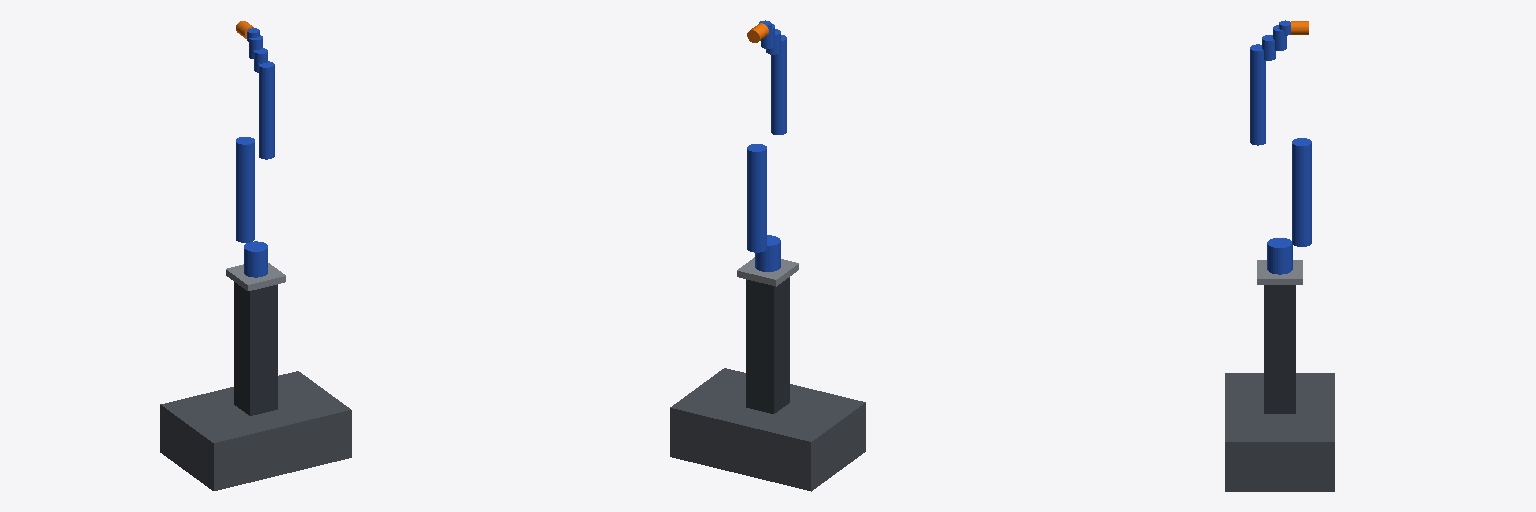
URDF robot description (mobile_manipulator):
<?xml version="1.0" ?>
<!-- =================================================================================== -->
<!-- |    This document was autogenerated by xacro from src/description/mobile_manipulator_description/urdf/mobile_manipulator.urdf.xacro | -->
<!-- |    EDITING THIS FILE BY HAND IS NOT RECOMMENDED                                 | -->
<!-- =================================================================================== -->
<!-- Mobile manipulator: base + lift + 6-DOF arm + tool = 7 actuated DOF (lift + six arm joints).

     Every part is swappable behind a small contract (see each file's header):
       base  urdf/base/generic_base.xacro
       lift  urdf/lift/telescopic_lift.xacro
       arm   urdf/arms/arm.xacro  (generic_6dof | ur3 | ur5 | ur10 | ur10e | ur16e | ur20 | ...)
       tool  urdf/tools/generic_tool.xacro

     Render:  xacro mobile_manipulator.urdf.xacro arm:=ur10e lift_stroke:=1.5 tcp_xyz:="0 0 0.165"

     Frames:  base_footprint > base_link > lift_mount_link > lift_base_link > (lift_joint) >
              lift_carriage_link > lift_output_link > arm_base_link > ... > arm_flange_link >
              tool_mount_link > tcp_link -->
<robot name="mobile_manipulator">
  <link name="base_footprint"/>
  <link name="base_link">
    <visual>
      <origin rpy="0 0 0" xyz="0 0 0"/>
      <geometry>
        <box size="0.9 0.6 0.3"/>
      </geometry>
      <material name="base_grey">
        <color rgba="0.35 0.37 0.4 1"/>
      </material>
    </visual>
    <collision>
      <origin rpy="0 0 0" xyz="0 0 0"/>
      <geometry>
        <box size="0.9 0.6 0.3"/>
      </geometry>
    </collision>
    <inertial>
      <mass value="60.0"/>
      <inertia ixx="2.2499999999999996" ixy="0" ixz="0" iyy="4.5" iyz="0" izz="5.849999999999999"/>
    </inertial>
  </link>
  <joint name="base_footprint_joint" type="fixed">
    <parent link="base_footprint"/>
    <child link="base_link"/>
    <origin rpy="0 0 0" xyz="0 0 0.2"/>
  </joint>
  <!-- Where the lift column attaches: top face of the base, at the origin by default. -->
  <link name="lift_mount_link"/>
  <joint name="lift_mount_joint" type="fixed">
    <parent link="base_link"/>
    <child link="lift_mount_link"/>
    <origin rpy="0 0 0" xyz="0 0 0.15"/>
  </joint>
  <!-- Fixed outer column. -->
  <link name="lift_base_link">
    <visual>
      <origin rpy="0 0 0" xyz="0 0 0.4"/>
      <geometry>
        <box size="0.18 0.18 0.8"/>
      </geometry>
      <material name="lift_dark">
        <color rgba="0.25 0.27 0.3 1"/>
      </material>
    </visual>
    <collision>
      <origin rpy="0 0 0" xyz="0 0 0.4"/>
      <geometry>
        <box size="0.18 0.18 0.8"/>
      </geometry>
    </collision>
    <inertial>
      <mass value="10.0"/>
      <inertia ixx="0.5" ixy="0" ixz="0" iyy="0.5" iyz="0" izz="0.1"/>
    </inertial>
  </link>
  <joint name="lift_base_joint" type="fixed">
    <parent link="lift_mount_link"/>
    <child link="lift_base_link"/>
    <origin rpy="0 0 0" xyz="0 0 0"/>
  </joint>
  <!-- Moving carriage: driven by the single master joint over the full stroke. It sits at the
         top of the fixed column when the lift is retracted. -->
  <link name="lift_carriage_link">
    <visual>
      <origin rpy="0 0 0" xyz="0 0 0.02"/>
      <geometry>
        <box size="0.252 0.252 0.04"/>
      </geometry>
      <material name="lift_plate">
        <color rgba="0.55 0.57 0.6 1"/>
      </material>
    </visual>
    <collision>
      <origin rpy="0 0 0" xyz="0 0 0.02"/>
      <geometry>
        <box size="0.252 0.252 0.04"/>
      </geometry>
    </collision>
    <inertial>
      <mass value="3.0"/>
      <inertia ixx="0.05" ixy="0" ixz="0" iyy="0.05" iyz="0" izz="0.05"/>
    </inertial>
  </link>
  <joint name="lift_joint" type="prismatic">
    <parent link="lift_base_link"/>
    <child link="lift_carriage_link"/>
    <origin rpy="0 0 0" xyz="0 0 0.8"/>
    <axis xyz="0 0 1"/>
    <limit effort="2000.0" lower="0" upper="1.5" velocity="0.2"/>
  </joint>
  <link name="lift_stage_1_link">
    <visual>
      <origin rpy="0 0 0" xyz="0 0 0.4"/>
      <geometry>
        <cylinder length="0.8" radius="0.072"/>
      </geometry>
      <material name="lift_silver">
        <color rgba="0.7 0.72 0.75 1"/>
      </material>
    </visual>
    <collision>
      <origin rpy="0 0 0" xyz="0 0 0.4"/>
      <geometry>
        <cylinder length="0.8" radius="0.072"/>
      </geometry>
    </collision>
    <inertial>
      <mass value="2.0"/>
      <inertia ixx="0.1" ixy="0" ixz="0" iyy="0.1" iyz="0" izz="0.01"/>
    </inertial>
  </link>
  <joint name="lift_stage_1_joint" type="prismatic">
    <parent link="lift_base_link"/>
    <child link="lift_stage_1_link"/>
    <origin rpy="0 0 0" xyz="0 0 0"/>
    <axis xyz="0 0 1"/>
    <limit effort="1000" lower="0" upper="0.75" velocity="1.0"/>
    <mimic joint="lift_joint" multiplier="0.5" offset="0"/>
  </joint>
  <link name="lift_stage_2_link">
    <visual>
      <origin rpy="0 0 0" xyz="0 0 0.4"/>
      <geometry>
        <cylinder length="0.8" radius="0.0576"/>
      </geometry>
      <material name="lift_silver">
        <color rgba="0.7 0.72 0.75 1"/>
      </material>
    </visual>
    <collision>
      <origin rpy="0 0 0" xyz="0 0 0.4"/>
      <geometry>
        <cylinder length="0.8" radius="0.0576"/>
      </geometry>
    </collision>
    <inertial>
      <mass value="2.0"/>
      <inertia ixx="0.1" ixy="0" ixz="0" iyy="0.1" iyz="0" izz="0.01"/>
    </inertial>
  </link>
  <joint name="lift_stage_2_joint" type="prismatic">
    <parent link="lift_stage_1_link"/>
    <child link="lift_stage_2_link"/>
    <origin rpy="0 0 0" xyz="0 0 0"/>
    <axis xyz="0 0 1"/>
    <limit effort="1000" lower="0" upper="0.75" velocity="1.0"/>
    <mimic joint="lift_joint" multiplier="0.5" offset="0"/>
  </joint>
  <!-- Where the arm attaches. -->
  <link name="lift_output_link"/>
  <joint name="lift_output_joint" type="fixed">
    <parent link="lift_carriage_link"/>
    <child link="lift_output_link"/>
    <origin rpy="0 0 0" xyz="0 0 0.02"/>
  </joint>
  <link name="arm_base_link"/>
  <joint name="arm_base_joint" type="fixed">
    <parent link="lift_output_link"/>
    <child link="arm_base_link"/>
    <origin rpy="0 0 0" xyz="0 0 0"/>
  </joint>
  <link name="arm_shoulder_link">
    <visual>
      <origin rpy="0 0 0" xyz="0 0 0.09"/>
      <geometry>
        <cylinder length="0.18" radius="0.07"/>
      </geometry>
      <material name="arm_blue">
        <color rgba="0.2 0.4 0.8 1"/>
      </material>
    </visual>
    <collision>
      <origin rpy="0 0 0" xyz="0 0 0.09"/>
      <geometry>
        <cylinder length="0.18" radius="0.07"/>
      </geometry>
    </collision>
    <inertial>
      <mass value="3.0"/>
      <inertia ixx="0.05" ixy="0" ixz="0" iyy="0.05" iyz="0" izz="0.02"/>
    </inertial>
  </link>
  <joint name="arm_joint1" type="revolute">
    <parent link="arm_base_link"/>
    <child link="arm_shoulder_link"/>
    <origin rpy="0 0 0" xyz="0 0 0"/>
    <axis xyz="0 0 1"/>
    <limit effort="330" lower="-3.141592653589793" upper="3.141592653589793" velocity="2.09"/>
  </joint>
  <link name="arm_upper_arm_link">
    <visual>
      <origin rpy="0 0 0" xyz="0 0.12 0.306"/>
      <geometry>
        <cylinder length="0.612" radius="0.055"/>
      </geometry>
      <material name="arm_blue">
        <color rgba="0.2 0.4 0.8 1"/>
      </material>
    </visual>
    <collision>
      <origin rpy="0 0 0" xyz="0 0.12 0.306"/>
      <geometry>
        <cylinder length="0.612" radius="0.055"/>
      </geometry>
    </collision>
    <inertial>
      <mass value="3.0"/>
      <inertia ixx="0.05" ixy="0" ixz="0" iyy="0.05" iyz="0" izz="0.02"/>
    </inertial>
  </link>
  <joint name="arm_joint2" type="revolute">
    <parent link="arm_shoulder_link"/>
    <child link="arm_upper_arm_link"/>
    <origin rpy="0 0 0" xyz="0 0 0.18"/>
    <axis xyz="0 1 0"/>
    <limit effort="330" lower="-3.141592653589793" upper="3.141592653589793" velocity="2.09"/>
  </joint>
  <link name="arm_forearm_link">
    <visual>
      <origin rpy="0 0 0" xyz="0 0 0.286"/>
      <geometry>
        <cylinder length="0.572" radius="0.045"/>
      </geometry>
      <material name="arm_blue">
        <color rgba="0.2 0.4 0.8 1"/>
      </material>
    </visual>
    <collision>
      <origin rpy="0 0 0" xyz="0 0 0.286"/>
      <geometry>
        <cylinder length="0.572" radius="0.045"/>
      </geometry>
    </collision>
    <inertial>
      <mass value="3.0"/>
      <inertia ixx="0.05" ixy="0" ixz="0" iyy="0.05" iyz="0" izz="0.02"/>
    </inertial>
  </link>
  <joint name="arm_joint3" type="revolute">
    <parent link="arm_upper_arm_link"/>
    <child link="arm_forearm_link"/>
    <origin rpy="0 0 0" xyz="0 -0.12 0.612"/>
    <axis xyz="0 1 0"/>
    <limit effort="150" lower="-3.141592653589793" upper="3.141592653589793" velocity="3.14"/>
  </joint>
  <link name="arm_wrist_1_link">
    <visual>
      <origin rpy="0 0 0" xyz="0 0.06 0"/>
      <geometry>
        <cylinder length="0.12" radius="0.04"/>
      </geometry>
      <material name="arm_blue">
        <color rgba="0.2 0.4 0.8 1"/>
      </material>
    </visual>
    <collision>
      <origin rpy="0 0 0" xyz="0 0.06 0"/>
      <geometry>
        <cylinder length="0.12" radius="0.04"/>
      </geometry>
    </collision>
    <inertial>
      <mass value="3.0"/>
      <inertia ixx="0.05" ixy="0" ixz="0" iyy="0.05" iyz="0" izz="0.02"/>
    </inertial>
  </link>
  <joint name="arm_joint4" type="revolute">
    <parent link="arm_forearm_link"/>
    <child link="arm_wrist_1_link"/>
    <origin rpy="0 0 0" xyz="0 0 0.572"/>
    <axis xyz="0 1 0"/>
    <limit effort="54" lower="-3.141592653589793" upper="3.141592653589793" velocity="3.14"/>
  </joint>
  <link name="arm_wrist_2_link">
    <visual>
      <origin rpy="0 0 0" xyz="0 0 0.06"/>
      <geometry>
        <cylinder length="0.12" radius="0.04"/>
      </geometry>
      <material name="arm_blue">
        <color rgba="0.2 0.4 0.8 1"/>
      </material>
    </visual>
    <collision>
      <origin rpy="0 0 0" xyz="0 0 0.06"/>
      <geometry>
        <cylinder length="0.12" radius="0.04"/>
      </geometry>
    </collision>
    <inertial>
      <mass value="3.0"/>
      <inertia ixx="0.05" ixy="0" ixz="0" iyy="0.05" iyz="0" izz="0.02"/>
    </inertial>
  </link>
  <joint name="arm_joint5" type="revolute">
    <parent link="arm_wrist_1_link"/>
    <child link="arm_wrist_2_link"/>
    <origin rpy="0 0 0" xyz="0 0.12 0"/>
    <axis xyz="0 0 1"/>
    <limit effort="54" lower="-3.141592653589793" upper="3.141592653589793" velocity="3.14"/>
  </joint>
  <link name="arm_wrist_3_link">
    <visual>
      <origin rpy="0 0 0" xyz="0 0.03 0"/>
      <geometry>
        <cylinder length="0.06" radius="0.035"/>
      </geometry>
      <material name="arm_blue">
        <color rgba="0.2 0.4 0.8 1"/>
      </material>
    </visual>
    <collision>
      <origin rpy="0 0 0" xyz="0 0.03 0"/>
      <geometry>
        <cylinder length="0.06" radius="0.035"/>
      </geometry>
    </collision>
    <inertial>
      <mass value="3.0"/>
      <inertia ixx="0.05" ixy="0" ixz="0" iyy="0.05" iyz="0" izz="0.02"/>
    </inertial>
  </link>
  <joint name="arm_joint6" type="revolute">
    <parent link="arm_wrist_2_link"/>
    <child link="arm_wrist_3_link"/>
    <origin rpy="0 0 0" xyz="0 0 0.12"/>
    <axis xyz="0 1 0"/>
    <limit effort="54" lower="-3.141592653589793" upper="3.141592653589793" velocity="3.14"/>
  </joint>
  <!-- Arm contract: the flange, z pointing out of the last link. -->
  <link name="arm_flange_link"/>
  <joint name="arm_flange_joint" type="fixed">
    <parent link="arm_wrist_3_link"/>
    <child link="arm_flange_link"/>
    <origin rpy="-1.5707963267948966 0 0" xyz="0 0.06 0"/>
  </joint>
  <link name="tool_mount_link">
    <visual>
      <origin rpy="0 0 0" xyz="0 0 0.05"/>
      <geometry>
        <cylinder length="0.1" radius="0.04"/>
      </geometry>
      <material name="tool_orange">
        <color rgba="0.95 0.5 0.1 1"/>
      </material>
    </visual>
    <collision>
      <origin rpy="0 0 0" xyz="0 0 0.05"/>
      <geometry>
        <cylinder length="0.1" radius="0.04"/>
      </geometry>
    </collision>
    <inertial>
      <mass value="0.5"/>
      <inertia ixx="0.001" ixy="0" ixz="0" iyy="0.001" iyz="0" izz="0.0005"/>
    </inertial>
  </link>
  <joint name="tool_mount_joint" type="fixed">
    <parent link="arm_flange_link"/>
    <child link="tool_mount_link"/>
    <origin rpy="0 0 0" xyz="0 0 0"/>
  </joint>
  <link name="tcp_link"/>
  <joint name="tcp_joint" type="fixed">
    <parent link="tool_mount_link"/>
    <child link="tcp_link"/>
    <origin rpy="0 0 0" xyz="0 0 0.165"/>
  </joint>
</robot>

--- Render facts (derived) ---
3 views of the same robot in one strip: view 1: azimuth 30°, elevation 25°; view 2: azimuth 150°, elevation 25°; view 3: azimuth 270°, elevation 25° (orthographic).
Model mobile_manipulator with 18 links and 17 joints (6 revolute, 3 prismatic, 8 fixed), rooted at base_footprint, posed all joints at 0.
Visible links, largest first — view 1: base_link, lift_base_link, arm_upper_arm_link, arm_forearm_link, lift_carriage_link, arm_shoulder_link; view 2: base_link, lift_base_link, arm_upper_arm_link, arm_forearm_link, lift_carriage_link, arm_shoulder_link; view 3: base_link, lift_base_link, arm_upper_arm_link, arm_forearm_link, arm_shoulder_link, lift_carriage_link.
Link boxes in pixels (bbox=[...]): base_link: bbox=[160, 371, 351, 490]; lift_base_link: bbox=[234, 282, 277, 415]; arm_upper_arm_link: bbox=[236, 137, 254, 242]; arm_forearm_link: bbox=[259, 61, 274, 159]; lift_carriage_link: bbox=[226, 263, 285, 290]; arm_shoulder_link: bbox=[244, 241, 267, 277]; base_link: bbox=[670, 368, 865, 491]; lift_base_link: bbox=[746, 277, 789, 413]; arm_upper_arm_link: bbox=[747, 144, 766, 252]; arm_forearm_link: bbox=[771, 35, 786, 134]; lift_carriage_link: bbox=[737, 257, 798, 286]; arm_shoulder_link: bbox=[755, 235, 780, 271]; base_link: bbox=[1225, 373, 1334, 491]; lift_base_link: bbox=[1264, 285, 1295, 413]; arm_upper_arm_link: bbox=[1292, 138, 1311, 246]; arm_forearm_link: bbox=[1250, 44, 1265, 145]; arm_shoulder_link: bbox=[1267, 238, 1292, 274]; lift_carriage_link: bbox=[1257, 260, 1302, 284].
Bounding box of the posed robot: 0.9 × 0.6 × 2.64 m (x, y, z).
Geometry: primitives only (box / cylinder / sphere), no mesh files.
